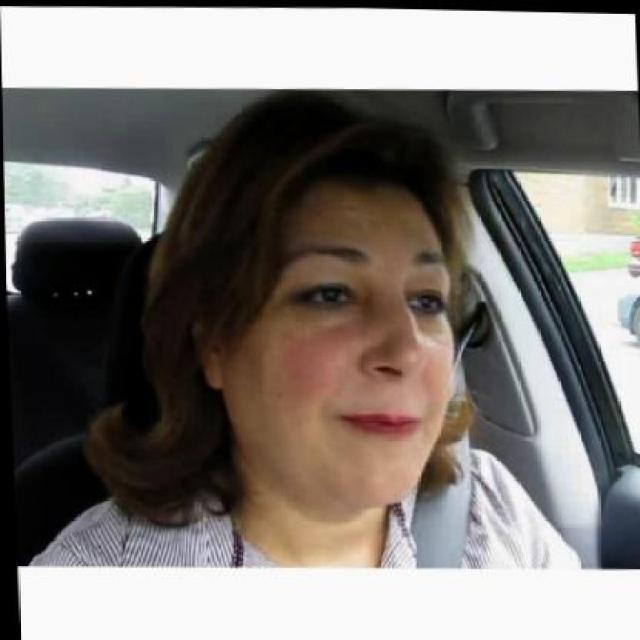attentif: (182, 83, 458, 506)
